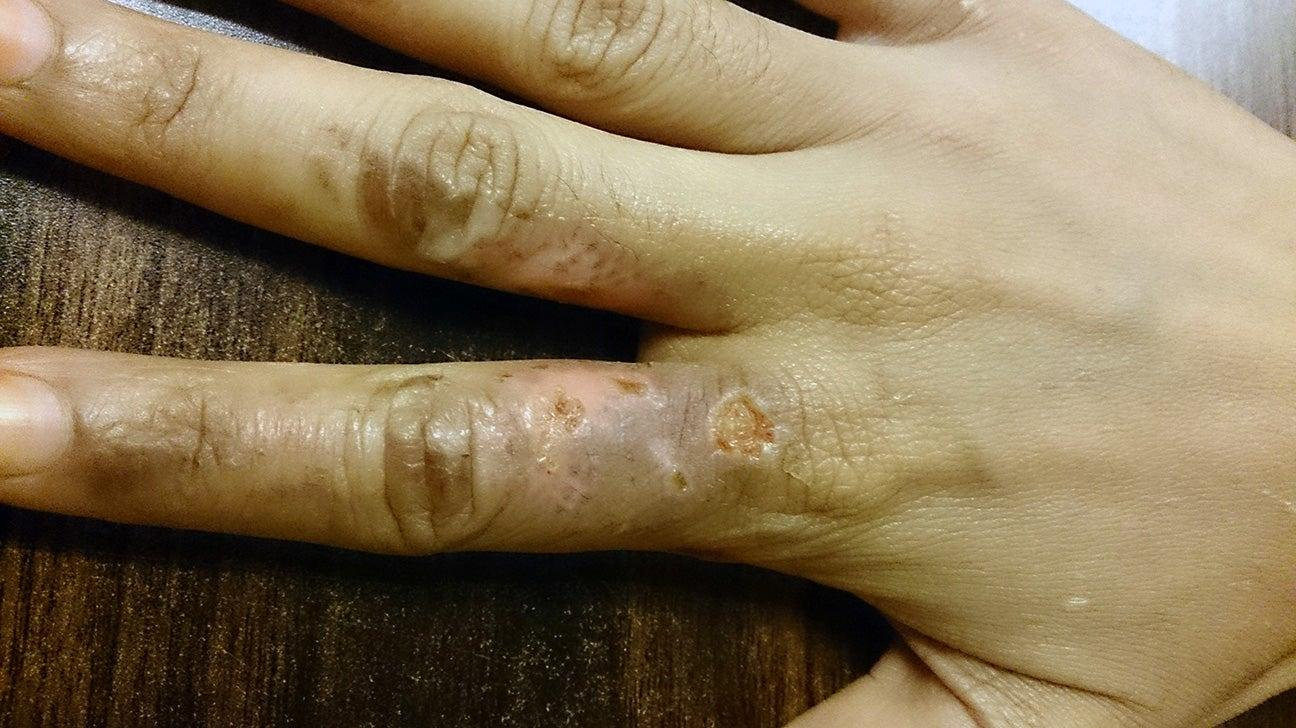burned-skin: (242, 365, 882, 511)
